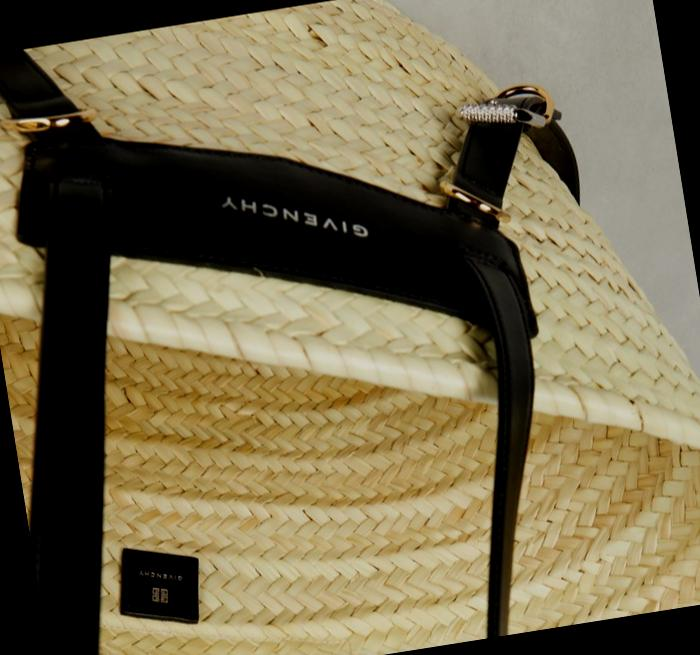GIVENCHY: (195, 154, 387, 276)
